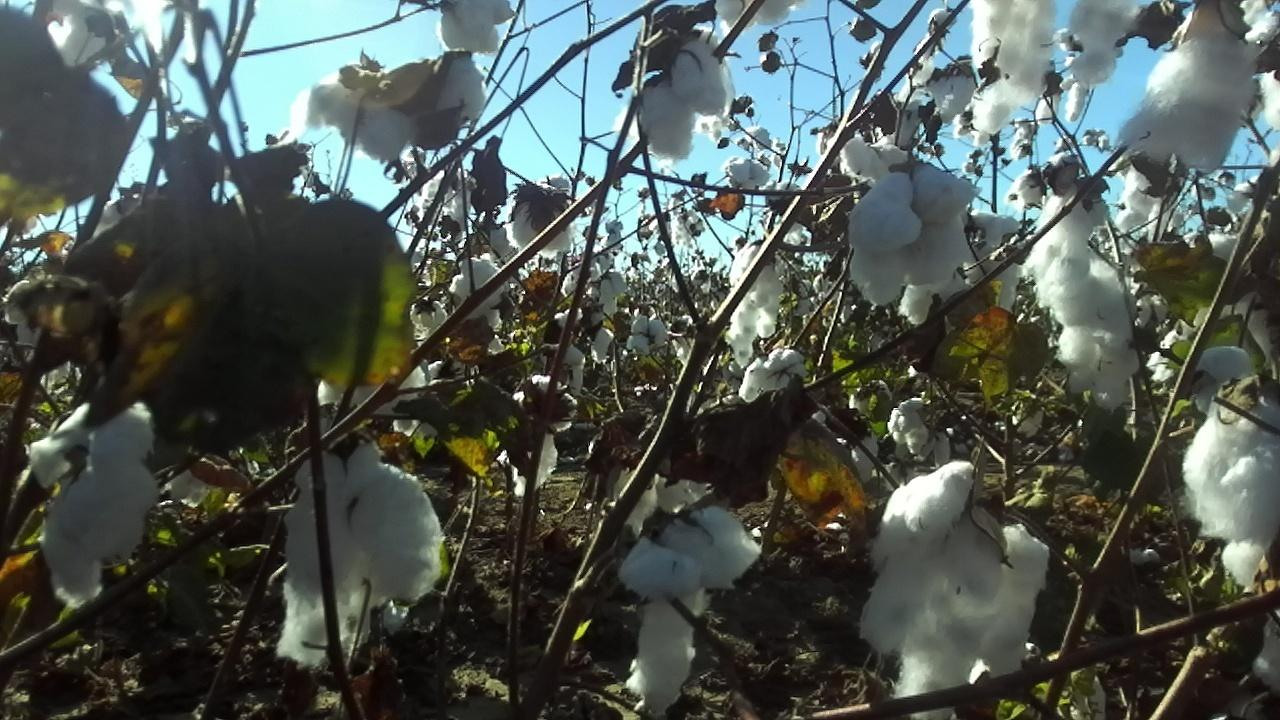cotton_ready: (861, 459, 1052, 716), (276, 440, 445, 668), (29, 397, 169, 607), (616, 507, 762, 706), (1028, 182, 1145, 407), (300, 52, 487, 163), (1182, 394, 1280, 593), (848, 167, 979, 309), (1118, 44, 1264, 170), (640, 27, 732, 162), (1184, 230, 1280, 330), (319, 360, 429, 437), (970, 0, 1059, 94), (1145, 335, 1249, 414), (513, 377, 580, 498), (728, 237, 784, 371), (508, 175, 580, 259), (1068, 0, 1137, 85), (45, 0, 117, 72), (1241, 0, 1280, 126), (448, 254, 510, 333), (433, 0, 519, 56), (887, 395, 952, 466), (1116, 154, 1165, 237), (734, 352, 800, 402), (0, 277, 45, 347), (925, 62, 975, 121), (842, 142, 912, 181), (713, 0, 794, 24)
